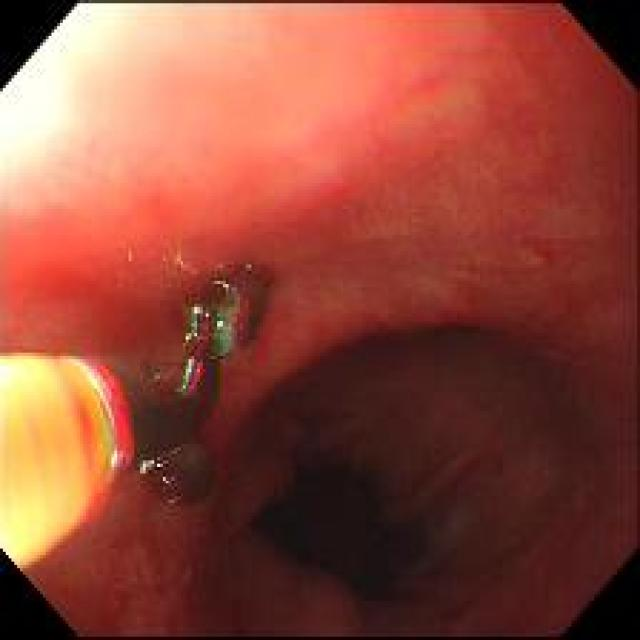color misalignment: (159, 283, 249, 403), (83, 356, 132, 495), (140, 455, 186, 507), (160, 251, 201, 279)
contrast: (242, 413, 441, 609)
instrument: (2, 280, 256, 571)
saturation: (2, 5, 134, 178), (5, 363, 33, 390)
